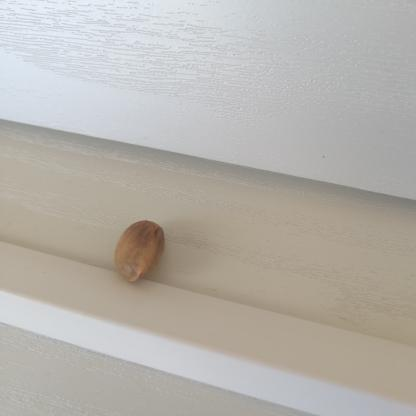pistachio: (110, 215, 172, 287)
